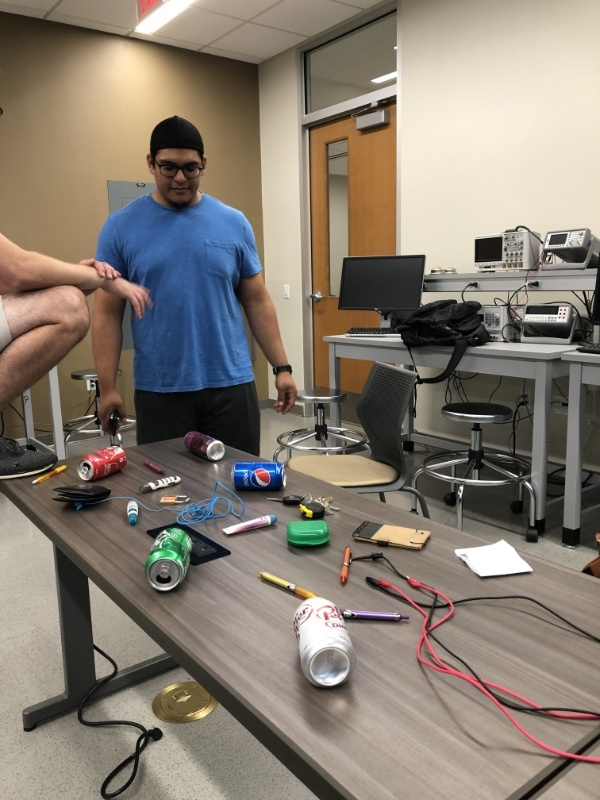can: (289, 592, 362, 695), (144, 524, 198, 598), (227, 458, 292, 496), (76, 444, 131, 484), (181, 426, 230, 463)
